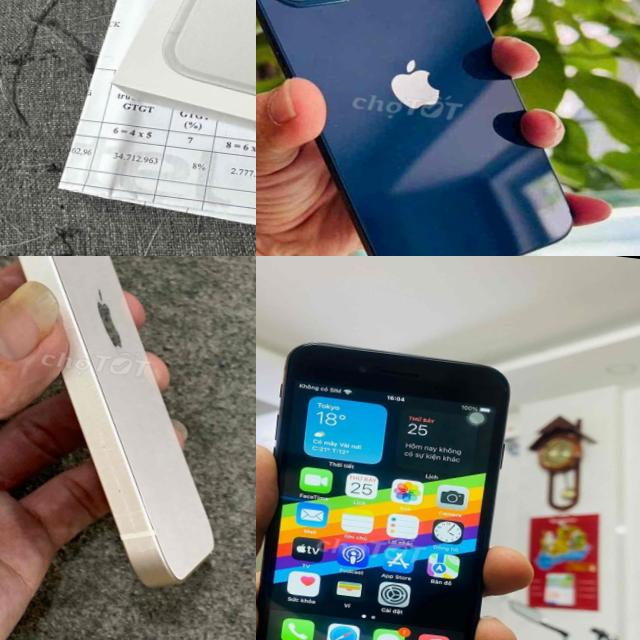gen_12_13: (256, 0, 611, 256), (0, 256, 256, 604)
gen_17: (157, 0, 256, 134)
gen_7_8: (256, 331, 526, 640)
